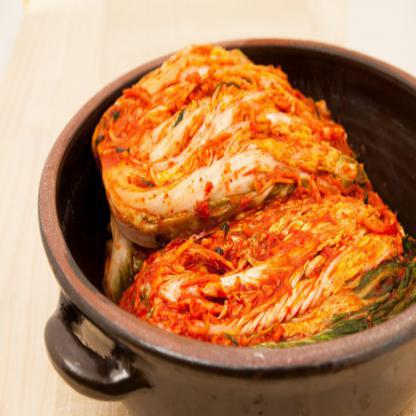kimchi: (90, 52, 379, 222), (125, 210, 416, 343)
